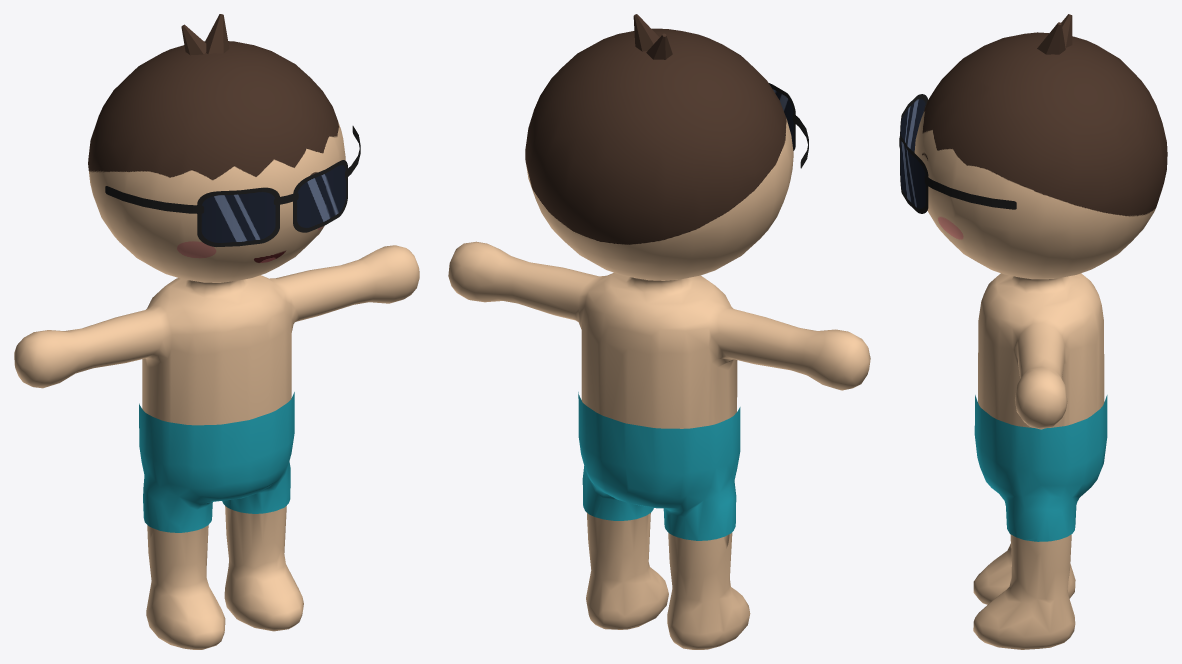
The model's file is character_static.glb.
3 views of the same model, side by side, from view 1: azimuth 30°, elevation 25°; view 2: azimuth 150°, elevation 25°; view 3: azimuth 270°, elevation 25° (orthographic). The views are drawn at different scales.
Visible parts, largest first — view 1: BodyMesh, Sunglasses, HairTufts; view 2: BodyMesh, HairTufts, Sunglasses; view 3: BodyMesh, Sunglasses, HairTufts.
Part boxes in pixels (x1,y1,x2,y2): BodyMesh: [14, 41, 419, 649]; Sunglasses: [105, 126, 360, 246]; HairTufts: [181, 14, 229, 55]; BodyMesh: [448, 28, 870, 649]; HairTufts: [633, 14, 672, 59]; Sunglasses: [769, 83, 808, 168]; BodyMesh: [914, 32, 1167, 649]; Sunglasses: [899, 94, 1016, 213]; HairTufts: [1037, 14, 1072, 54].
Size of the model in its own units: 0.87 by 1.25 by 0.4995.
4 materials, 2 textured.
